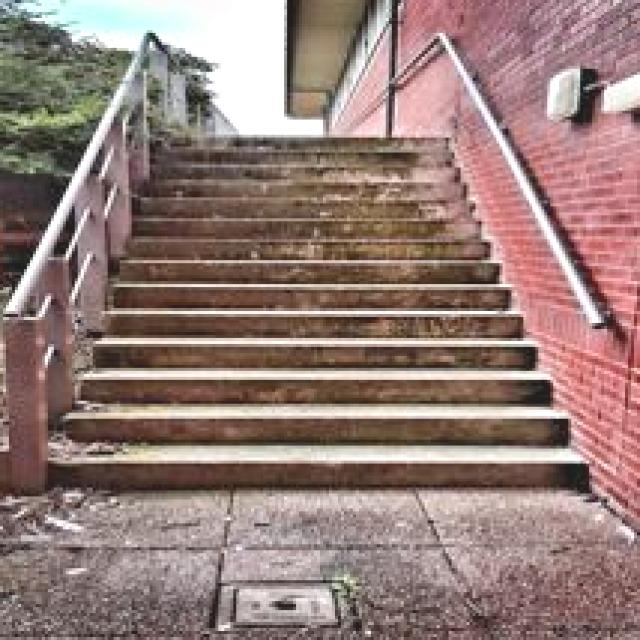upstair: (55, 303, 509, 512)
